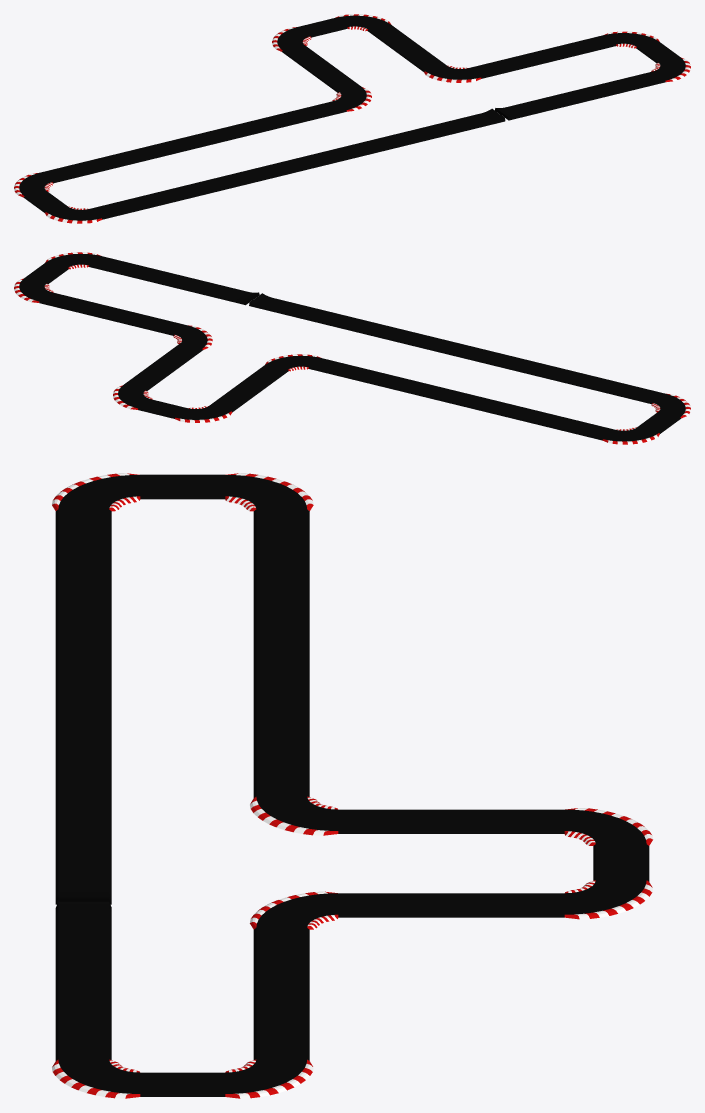
File: path.fbx
3 views of the same model, one above another, from view 1: azimuth 30°, elevation 25°; view 2: azimuth 150°, elevation 25°; view 3: azimuth 270°, elevation 25° (orthographic). The views are drawn at different scales.
Visible parts, largest first — view 1: track_segment.012, track_segment.014, track_segment.010, track_segment.009, track_segment.011, track_segment.004, track_segment.005, track_segment.008, track_segment.006, track_segment.001, track_segment.003, track_segment.002 (+10 smaller); view 2: track_segment.012, track_segment.014, track_segment.011, track_segment.004, track_segment.005, track_segment.010, track_segment.009, track_segment.006, track_segment.008, track_segment.003, track_segment.001, track_segment.002 (+10 smaller); view 3: track_segment.012, track_segment.014, track_segment.001, track_segment.003, track_segment.010, track_segment.004, track_segment.005, track_segment.009, track_segment.011, track_segment.006, track_segment.008, track_segment.007 (+10 smaller).
Part boxes in pixels (x1,y1,x2,y2): track_segment.012: (506, 71, 665, 117); track_segment.014: (468, 35, 616, 78); track_segment.010: (285, 137, 396, 171); track_segment.009: (187, 161, 298, 195); track_segment.011: (383, 113, 494, 147); track_segment.004: (236, 101, 346, 135); track_segment.005: (138, 125, 248, 159); track_segment.008: (89, 185, 200, 219); track_segment.006: (40, 149, 150, 183); track_segment.001: (367, 24, 446, 71); track_segment.003: (282, 45, 360, 92); track_segment.002: (298, 18, 347, 37); track_segment.012: (88, 256, 247, 302); track_segment.014: (39, 292, 186, 335); track_segment.011: (260, 298, 370, 332); track_segment.004: (308, 358, 419, 392); track_segment.005: (406, 382, 517, 416); track_segment.010: (358, 322, 468, 356); track_segment.009: (456, 346, 566, 380); track_segment.006: (504, 406, 615, 440); track_segment.008: (554, 369, 664, 403); track_segment.003: (209, 364, 288, 412); track_segment.001: (124, 343, 202, 390); track_segment.002: (138, 399, 187, 418); track_segment.012: (55, 916, 111, 1060); track_segment.014: (253, 928, 309, 1060); track_segment.001: (338, 893, 564, 917); track_segment.003: (338, 809, 564, 833); track_segment.010: (55, 700, 111, 797); track_segment.004: (253, 700, 309, 797); track_segment.005: (253, 605, 309, 702); track_segment.009: (55, 605, 111, 702); track_segment.011: (55, 796, 111, 893); track_segment.006: (253, 509, 309, 606); track_segment.008: (55, 509, 111, 606); track_segment.007: (140, 474, 225, 499).
Size of the model in its own units: 128 by 0.585 by 51.98.
